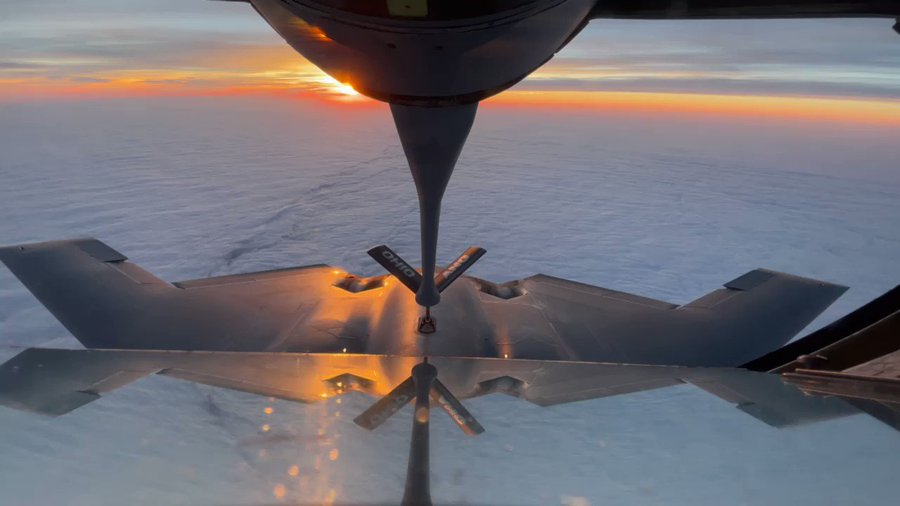B2: (1, 236, 851, 367)
